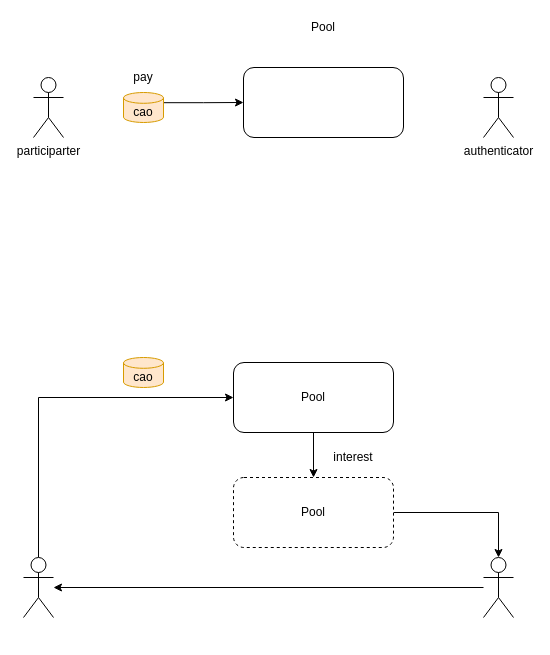
This 550x655 diagram has some shape labels left out. The shapes that lost their labels are listed below. From the top down, each one's centre as x and y in pixels, then its label:
At point 38,587: "reader".
At point 498,587: "author".
